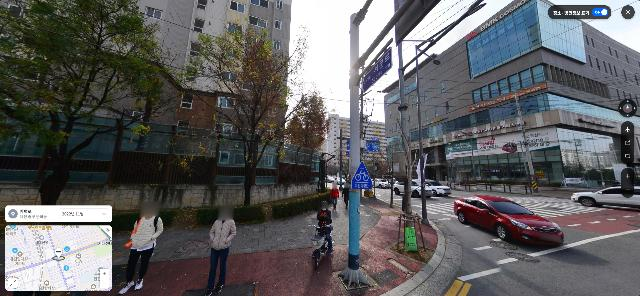ginkgo: (185, 16, 328, 206)
other: (0, 0, 192, 206), (372, 96, 446, 257), (284, 88, 331, 193)
